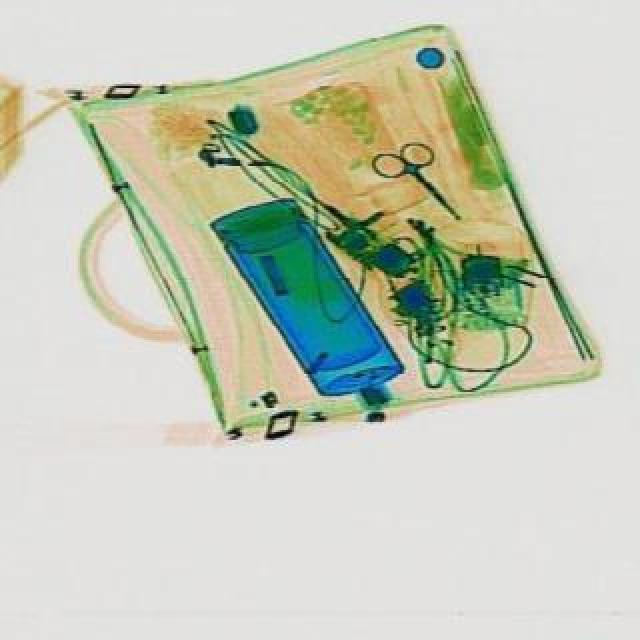pliers: (362, 130, 478, 240)
